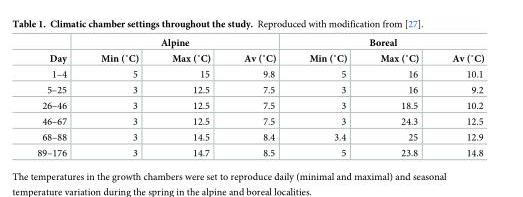table: (36, 37, 483, 157)
table column: (154, 37, 226, 157), (363, 37, 435, 157), (83, 37, 154, 157), (292, 37, 363, 157), (226, 37, 292, 157), (435, 37, 483, 157), (36, 37, 83, 157)
table column header: (36, 37, 483, 65)
table row: (36, 65, 483, 81), (36, 81, 483, 97), (36, 97, 483, 113), (36, 113, 483, 129), (36, 50, 483, 65), (36, 129, 483, 144), (36, 37, 483, 50), (36, 144, 483, 157)
table spanning cell: (83, 37, 292, 50), (292, 37, 483, 50), (36, 37, 83, 65)
